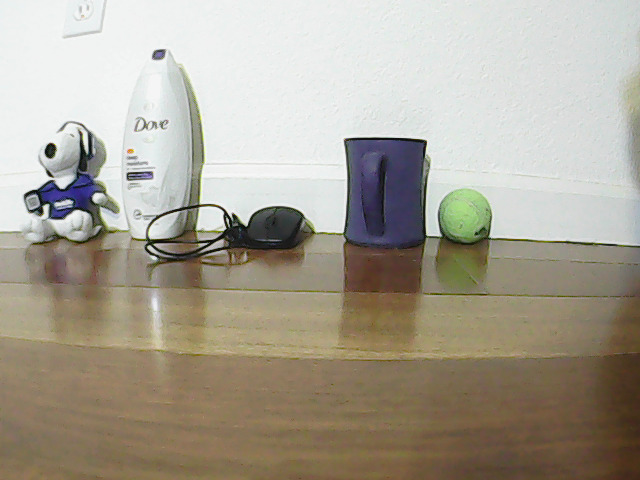ball: (440, 188, 496, 248)
mouse: (244, 191, 306, 259)
mug: (333, 112, 432, 258)
snoopy: (30, 112, 106, 241)
soap: (137, 45, 198, 243)
